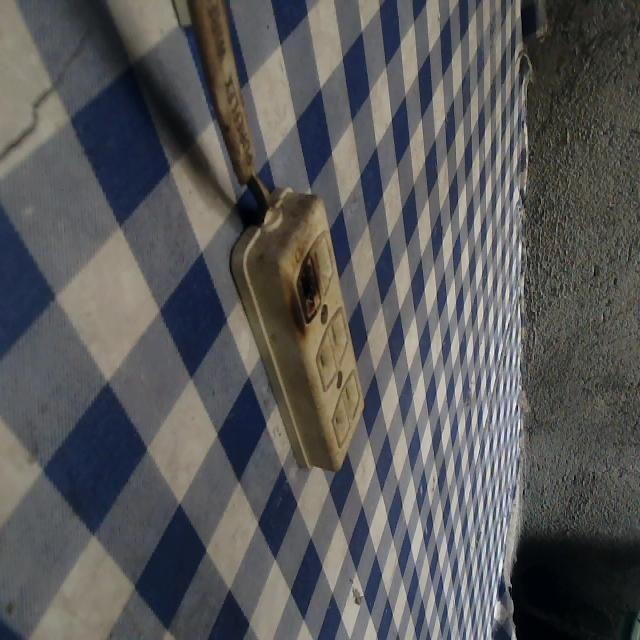-: (285, 248, 323, 329)
